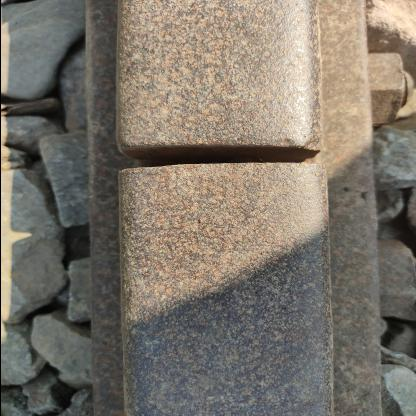Non Defective: (17, 61, 364, 402)
